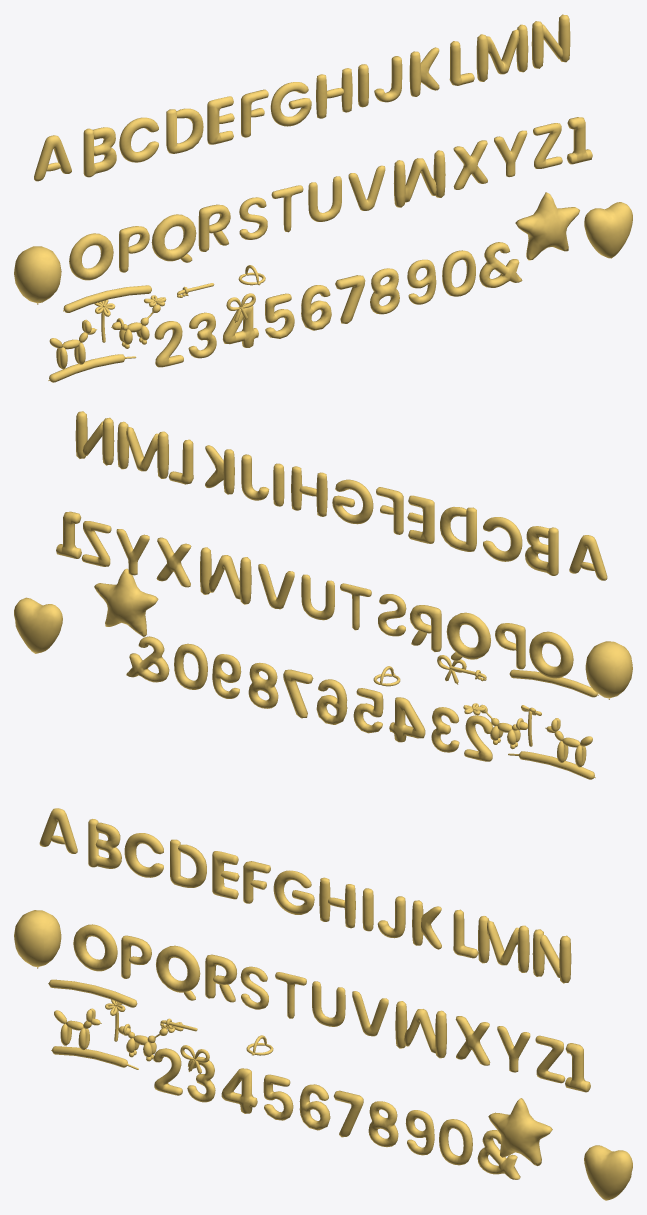
Rendered from Balloons.fbx.
3 views of the same model, one above another, from view 1: azimuth 30°, elevation 25°; view 2: azimuth 150°, elevation 25°; view 3: azimuth 330°, elevation 25° (orthographic).
Visible parts, largest first — view 1: Balloon_Star, Balloon_Balloon, Balloon_Heart, Balloon_M, Balloon_W, Balloon_Q, Balloon_B, Balloon_N, Balloon_O, Balloon_And, Balloon_D, Balloon_G (+31 smaller); view 2: Balloon_Star, Balloon_Balloon, Balloon_Heart, Balloon_W, Balloon_M, Balloon_Q, Balloon_B, Balloon_N, Balloon_O, Balloon_And, Balloon_D, Balloon_G (+31 smaller); view 3: Balloon_Star, Balloon_Balloon, Balloon_Heart, Balloon_M, Balloon_W, Balloon_N, Balloon_Q, Balloon_B, Balloon_O, Balloon_D, Balloon_G, Balloon_And (+31 smaller).
Part boxes in pixels (x1=…): Balloon_Star: x1=515, y1=192, x2=579, y2=260; Balloon_Balloon: x1=14, y1=246, x2=61, y2=304; Balloon_Heart: x1=584, y1=202, x2=632, y2=258; Balloon_M: x1=476, y1=24, x2=528, y2=81; Balloon_W: x1=393, y1=150, x2=445, y2=207; Balloon_Q: x1=151, y1=214, x2=196, y2=262; Balloon_B: x1=83, y1=127, x2=116, y2=177; Balloon_N: x1=531, y1=14, x2=570, y2=68; Balloon_O: x1=69, y1=233, x2=113, y2=280; Balloon_And: x1=479, y1=242, x2=522, y2=287; Balloon_D: x1=166, y1=108, x2=203, y2=153; Balloon_G: x1=270, y1=82, x2=311, y2=126; Balloon_Star: x1=94, y1=568, x2=158, y2=636; Balloon_Balloon: x1=585, y1=641, x2=632, y2=699; Balloon_Heart: x1=14, y1=597, x2=62, y2=653; Balloon_W: x1=200, y1=547, x2=251, y2=604; Balloon_M: x1=117, y1=421, x2=168, y2=478; Balloon_Q: x1=446, y1=612, x2=490, y2=660; Balloon_B: x1=525, y1=526, x2=558, y2=575; Balloon_N: x1=75, y1=411, x2=114, y2=465; Balloon_O: x1=529, y1=631, x2=573, y2=678; Balloon_And: x1=126, y1=636, x2=169, y2=682; Balloon_D: x1=440, y1=507, x2=476, y2=551; Balloon_G: x1=332, y1=479, x2=373, y2=524; Balloon_Star: x1=488, y1=1098, x2=552, y2=1165; Balloon_Balloon: x1=14, y1=910, x2=61, y2=968; Balloon_Heart: x1=584, y1=1145, x2=632, y2=1200; Balloon_M: x1=478, y1=916, x2=529, y2=972; Balloon_W: x1=395, y1=1001, x2=446, y2=1058; Balloon_N: x1=532, y1=929, x2=571, y2=983; Balloon_Q: x1=156, y1=945, x2=200, y2=1000; Balloon_B: x1=88, y1=819, x2=121, y2=868; Balloon_O: x1=73, y1=924, x2=117, y2=971; Balloon_D: x1=170, y1=839, x2=206, y2=887; Balloon_G: x1=273, y1=870, x2=314, y2=914; Balloon_And: x1=477, y1=1130, x2=520, y2=1179.
Bounding box in the file's own units: 6.16 × 2.45 × 0.6676.
